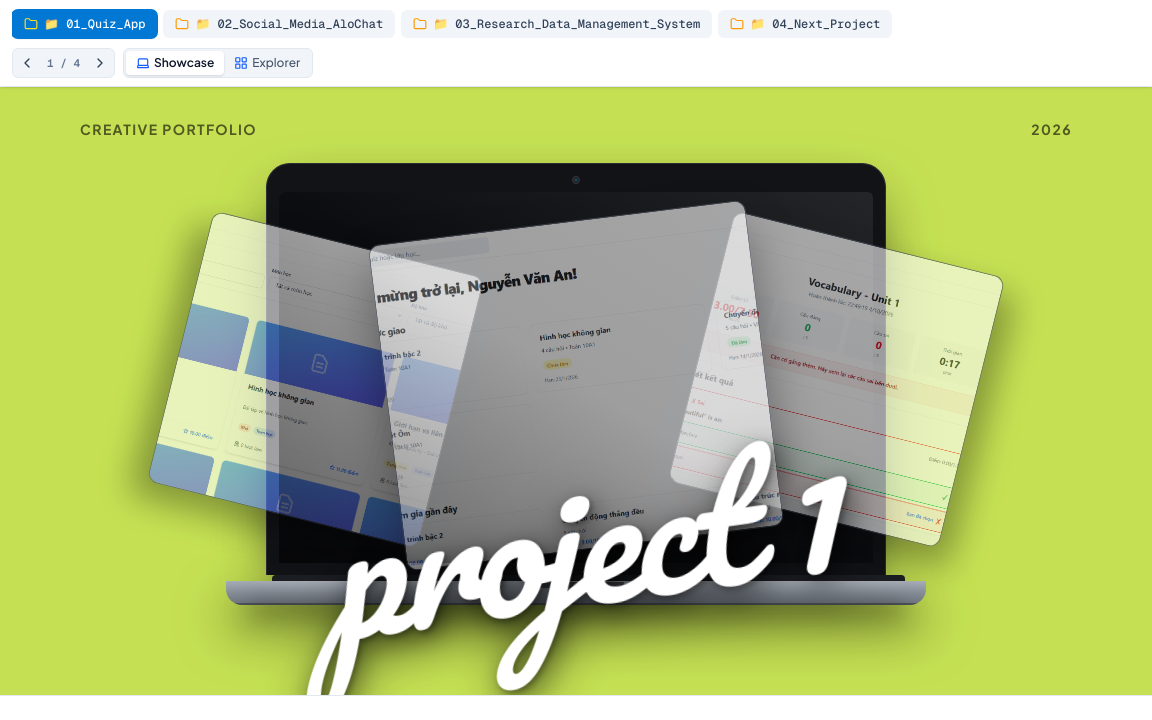
it: ProjectsContent Component › toggles between Showcase mode and File Explorer Grid mode
Expected: the element with test id "laptop-mockup" is shown, left=226, top=163, right=926, bottom=695
Step 1. Click the button "Explorer" → (267, 63), box left=224, top=51, right=310, bottom=75
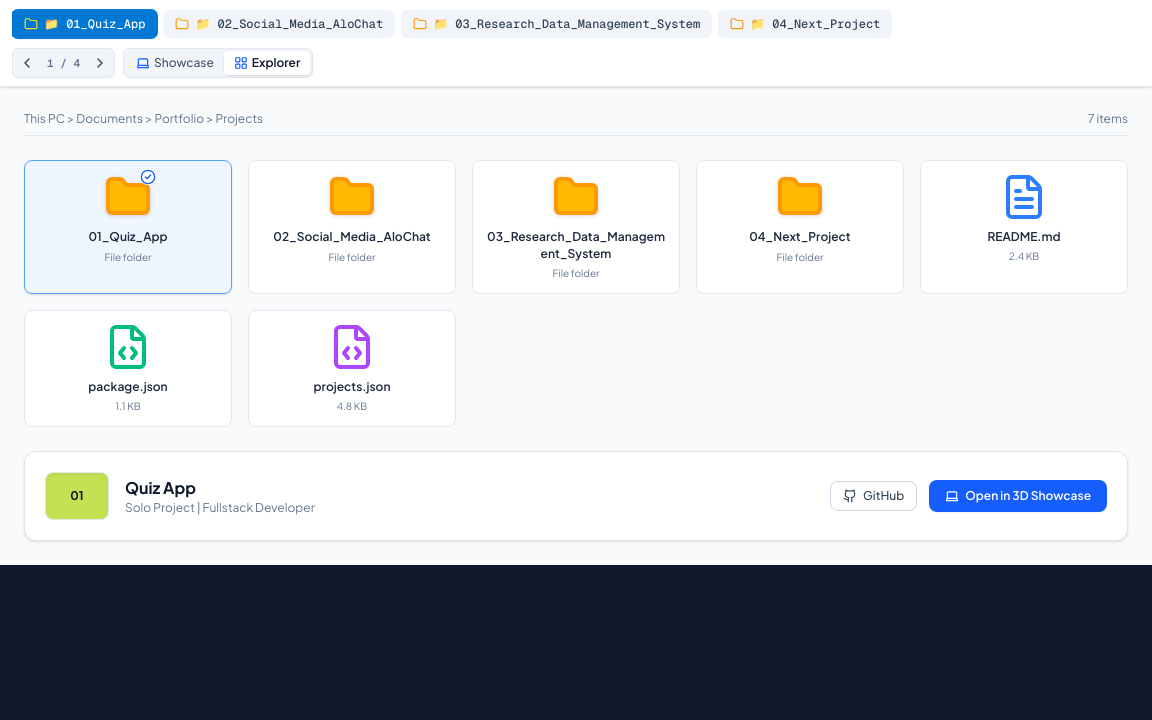
Expected: the element with test id "explorer-grid-view" is shown
Expected: the text "01_Quiz_App" is shown, left=88, top=229, right=168, bottom=246
Expected: the text "02_Social_Media_AloChat" is shown, left=273, top=229, right=431, bottom=246
Step 2. Click the button with aria-label "showcase view" → (175, 63), box left=126, top=51, right=224, bottom=75
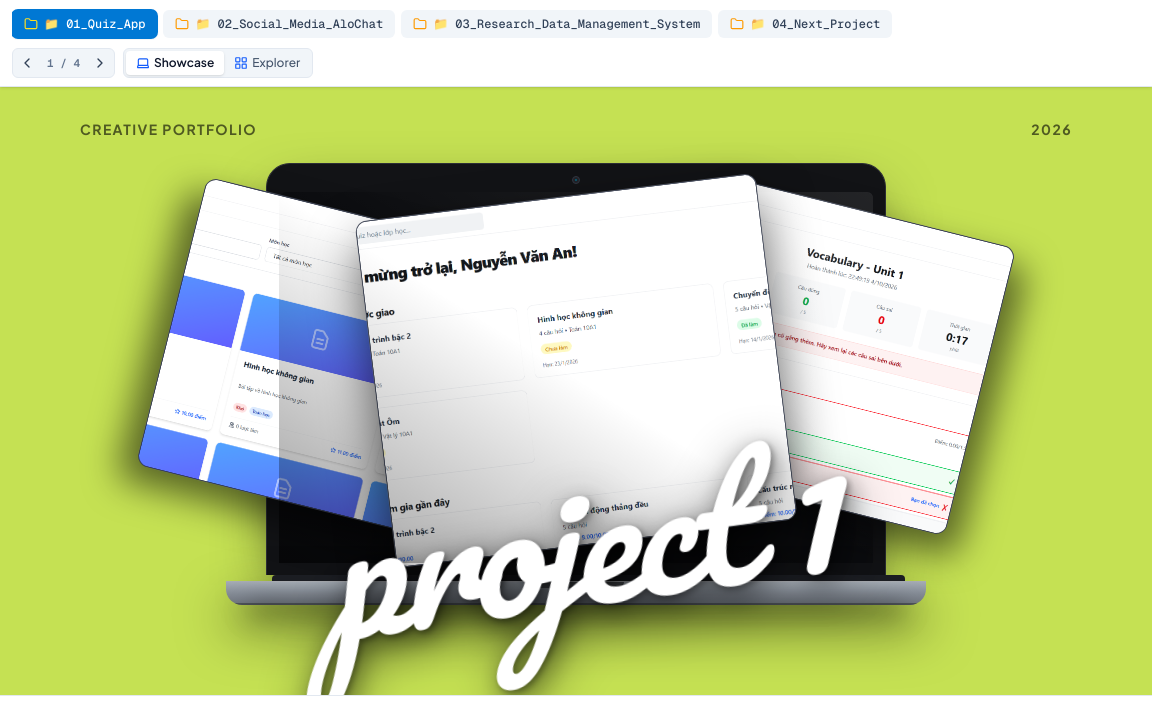
Expected: the element with test id "laptop-mockup" is shown, left=226, top=163, right=926, bottom=695
